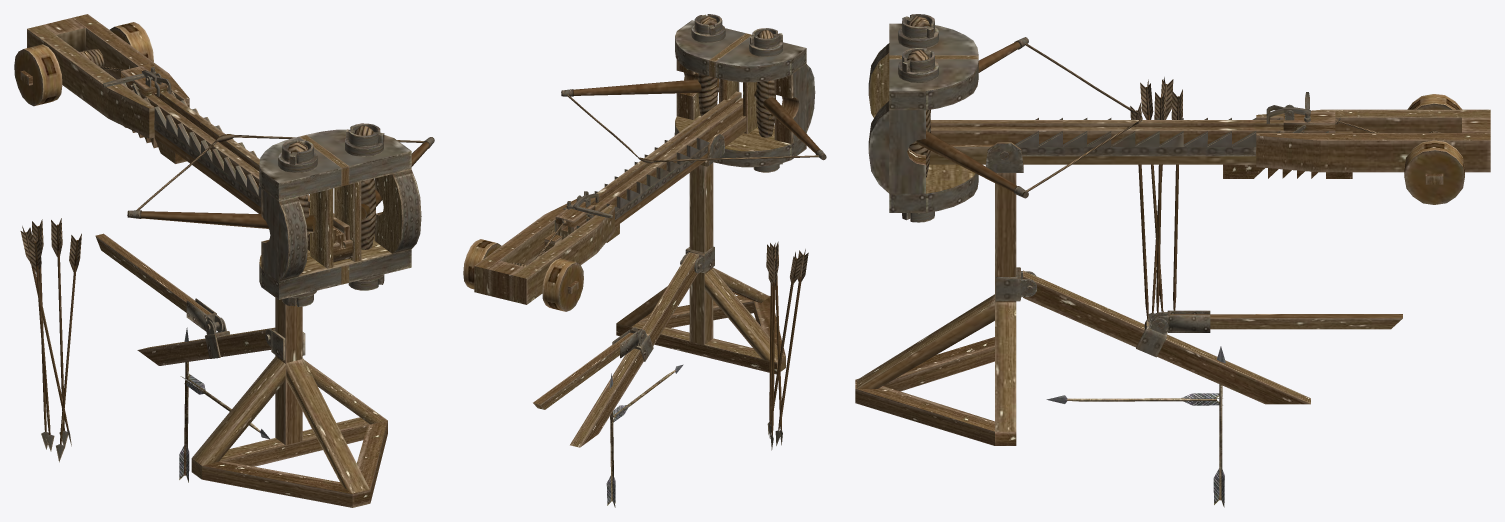
File: ballista.glb
3 views of the same model, side by side, from view 1: azimuth 30°, elevation 25°; view 2: azimuth 150°, elevation 25°; view 3: azimuth 270°, elevation 25° (orthographic). The views are drawn at different scales.
Parts seen in each view (by area): view 1: Scorpio_static, weap_arrow_front_007.001_static, weap_arrow_front_007_static; view 2: Scorpio_static, weap_arrow_front_007.001_static; view 3: Scorpio_static, weap_arrow_front_007_static, weap_arrow_front_007.001_static.
Part boxes in pixels (box(x1,y1,x2,y2)): Scorpio_static: box(14, 14, 434, 507); weap_arrow_front_007.001_static: box(179, 327, 189, 482); weap_arrow_front_007_static: box(180, 374, 269, 439); Scorpio_static: box(463, 14, 826, 450); weap_arrow_front_007.001_static: box(606, 373, 615, 507); Scorpio_static: box(855, 14, 1490, 445); weap_arrow_front_007_static: box(1046, 393, 1222, 405); weap_arrow_front_007.001_static: box(1213, 346, 1225, 507).
Size of the model in its own units: 3.88 by 4.84 by 5.89.
Materials: 3 (3 with a texture image).
